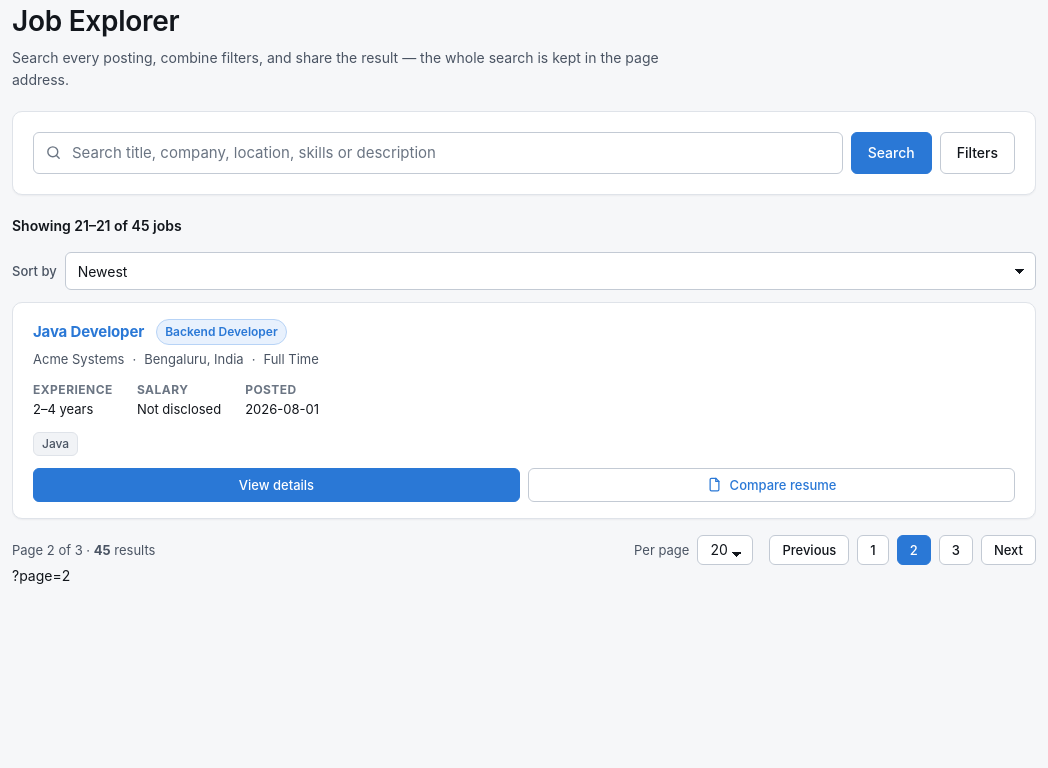
JobExplorer › changes the page size and goes back to page one
Expected: the link "Java Developer" is shown, [33,322,144,341]
Select "50" in the dropdown labelled "Per page": (725, 550) [697,535,753,565]
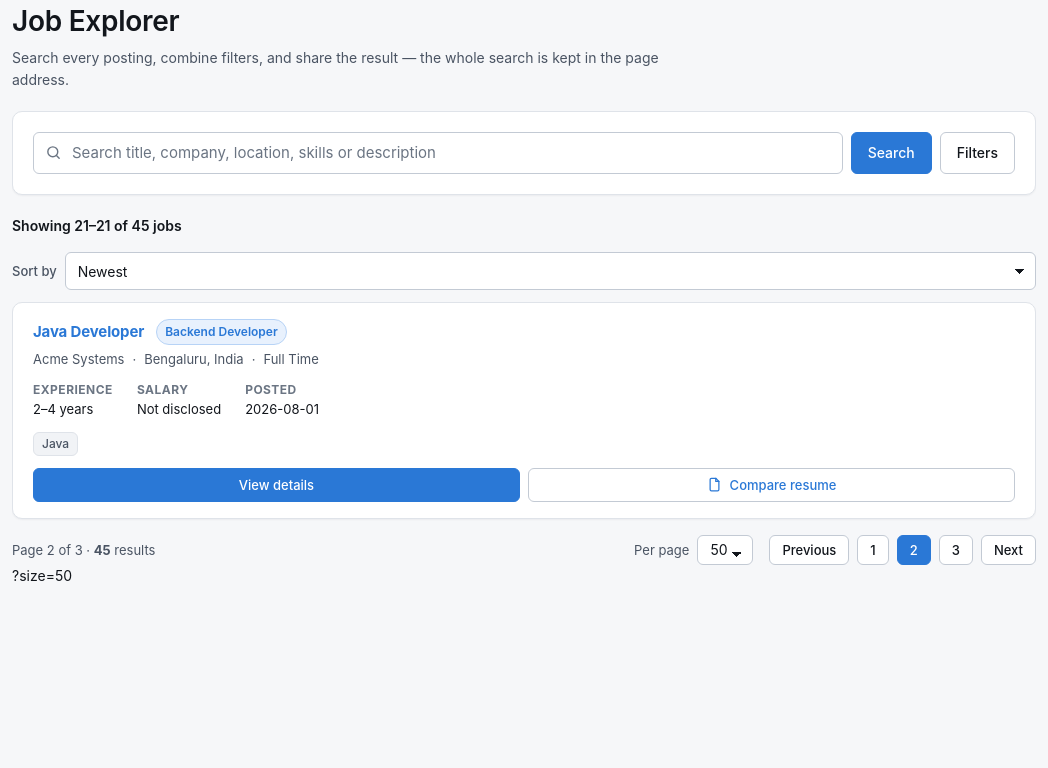
Now the text with test id "search" reads "?size=50", box [12,567,72,584]
